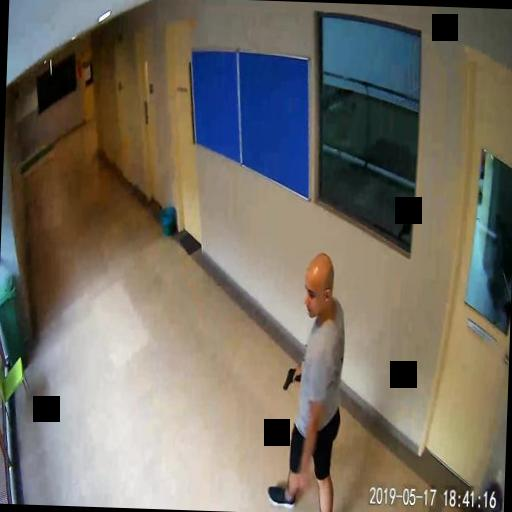Handgun: (280, 365, 300, 389)
